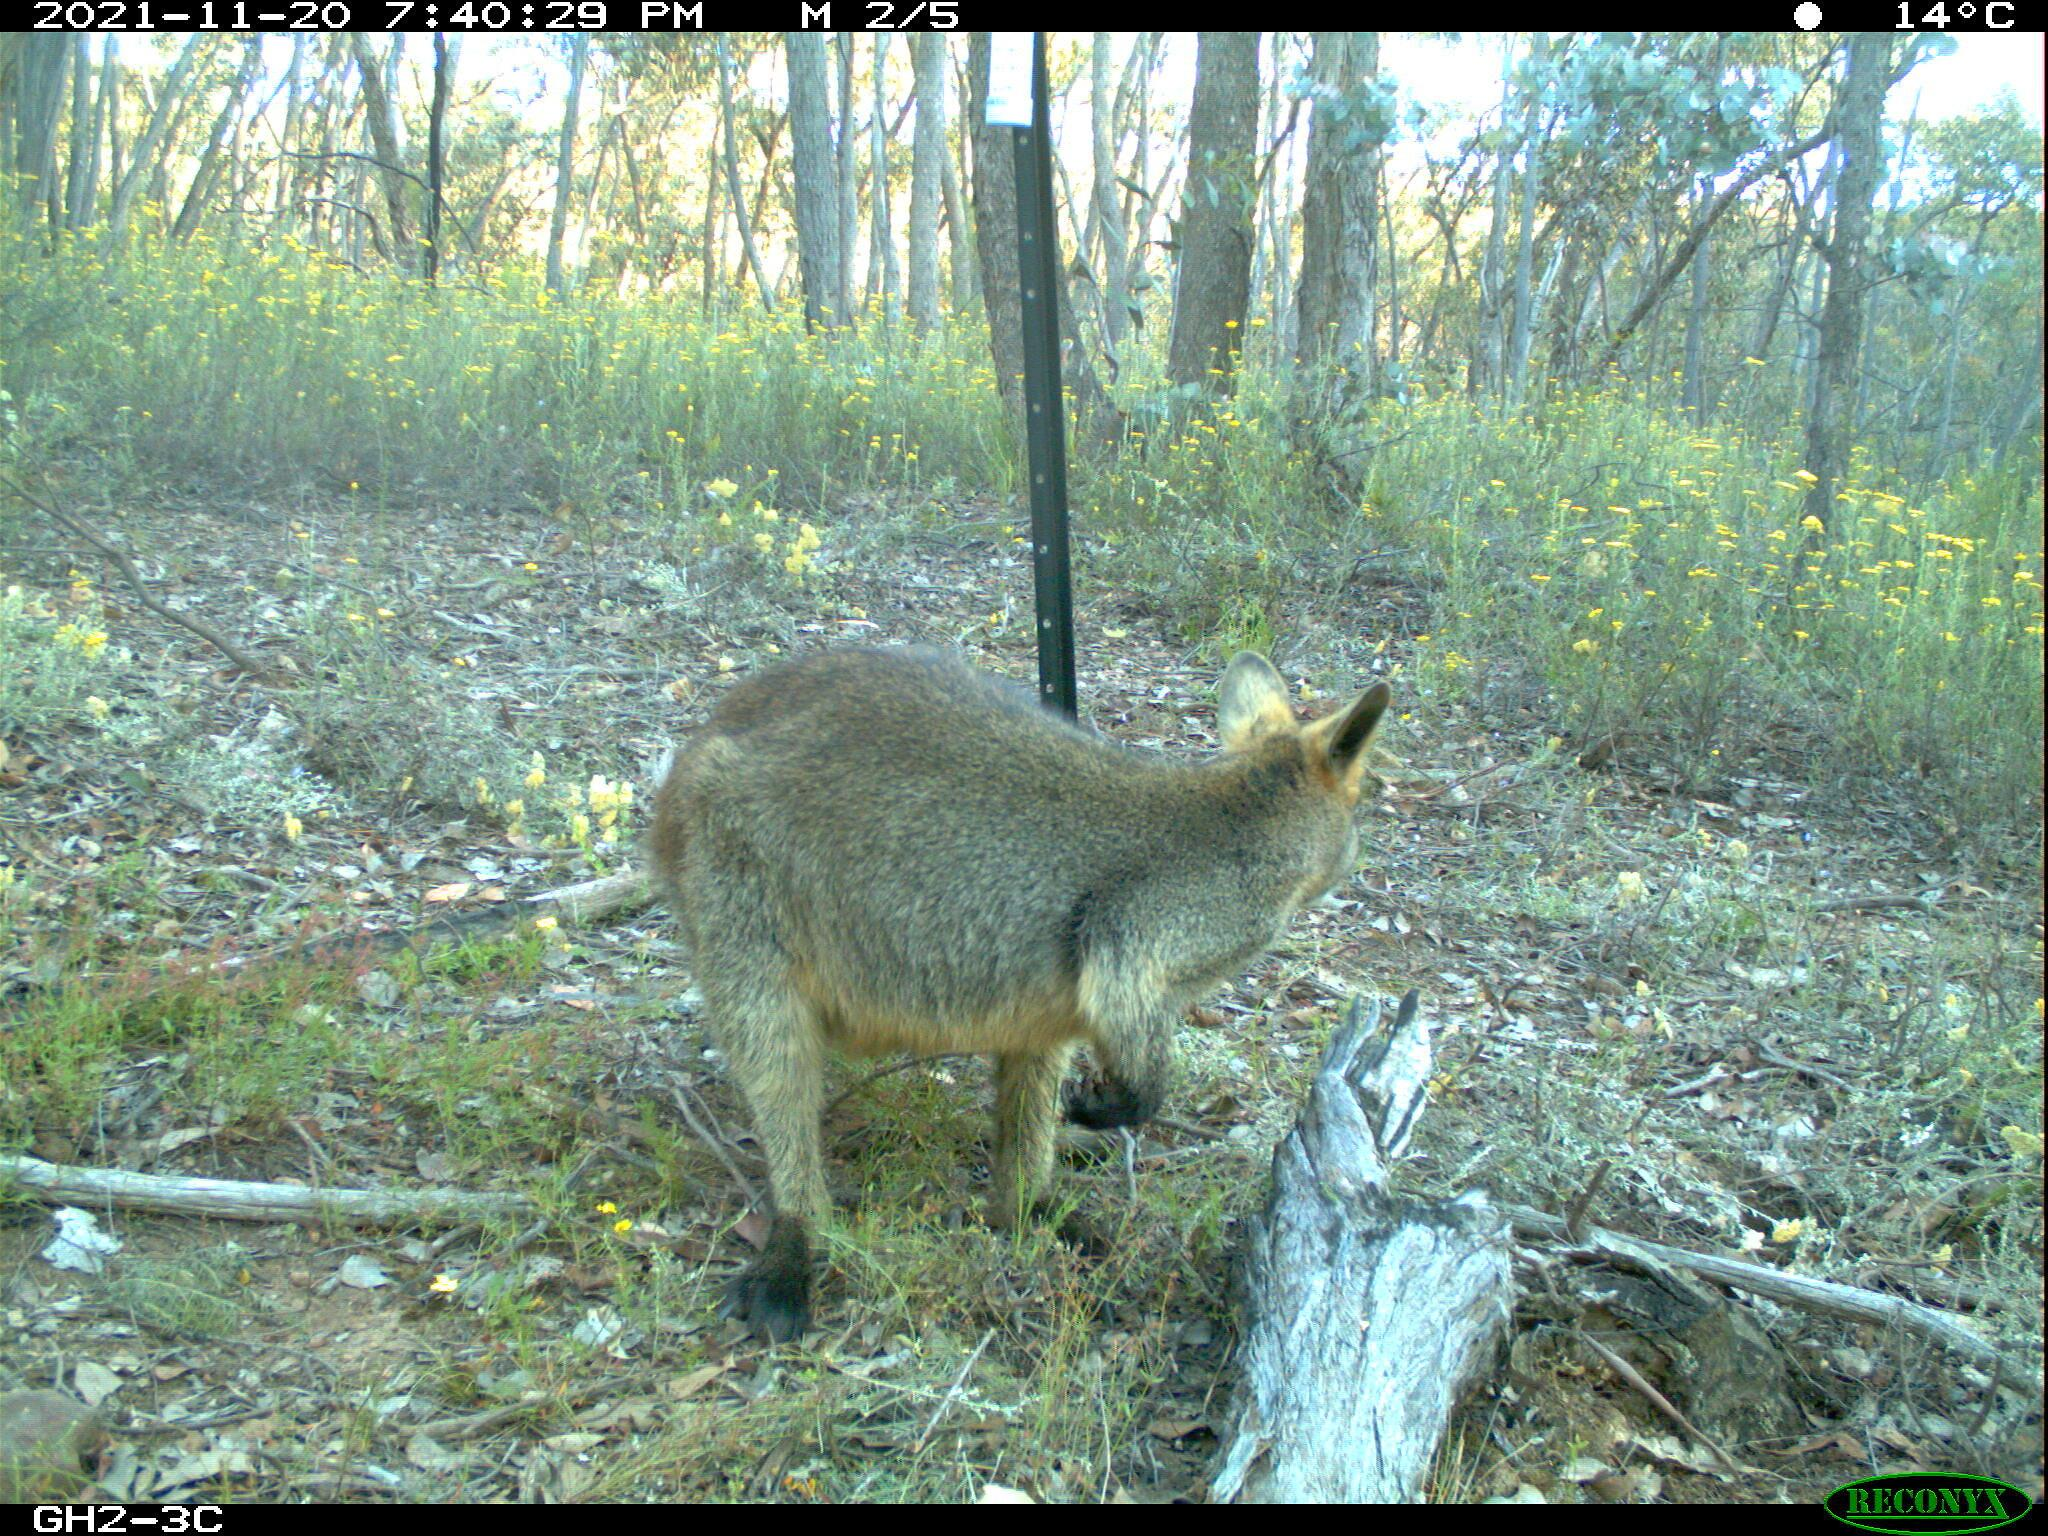Swamp wallaby: (572, 644, 1408, 1357)
